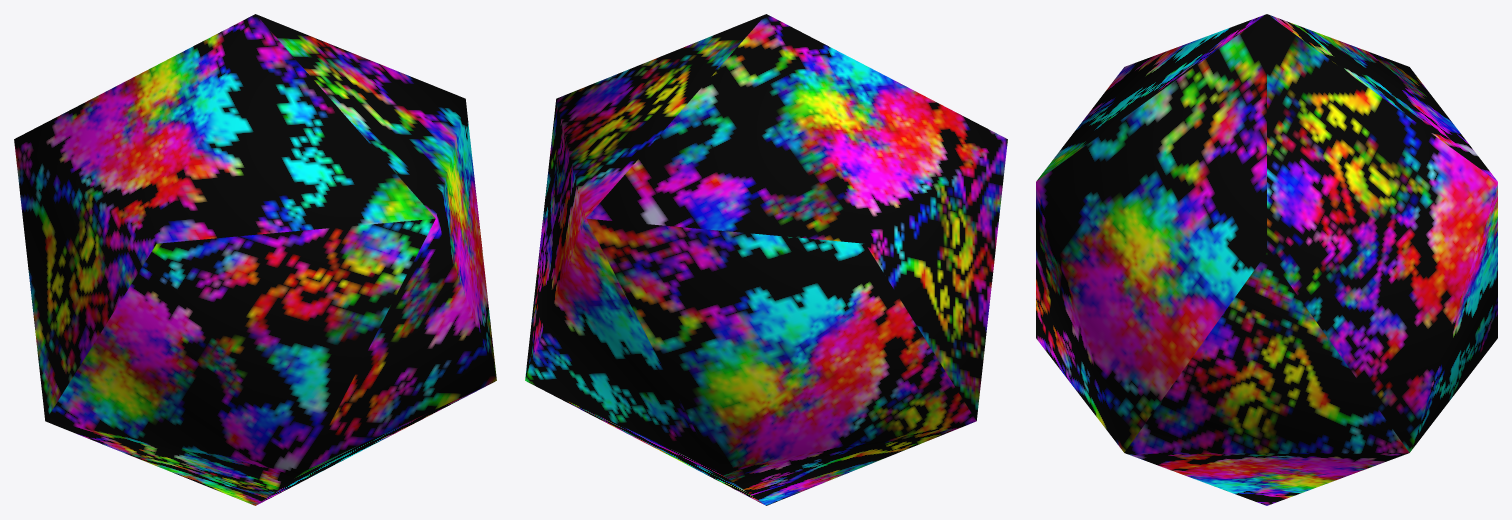
The model's file is missile1.obj.
3 renders of one model, left to right at view 1: azimuth 30°, elevation 25°; view 2: azimuth 150°, elevation 25°; view 3: azimuth 270°, elevation 25°, orthographic.
Visible parts, largest first — view 1: Icosphere.001_Icosphere.002; view 2: Icosphere.001_Icosphere.002; view 3: Icosphere.001_Icosphere.002.
Part boxes in pixels (x1,y1,x2,y2): Icosphere.001_Icosphere.002: (14,14,496,505); Icosphere.001_Icosphere.002: (525,14,1007,505); Icosphere.001_Icosphere.002: (1036,14,1497,505).
Size of the model in its own units: 0.3599 by 0.4024 by 0.3423.
Materials: 1 (1 with a texture image).
